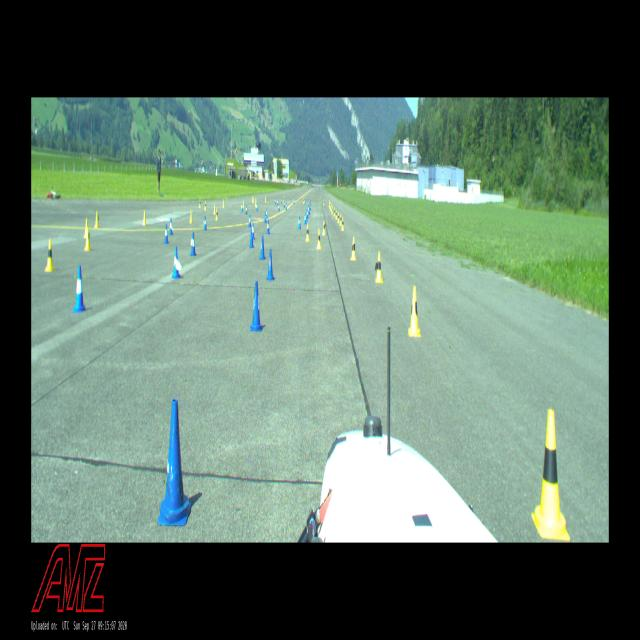blue_cone: (157, 398, 192, 528), (250, 281, 263, 331), (73, 265, 86, 312), (171, 248, 181, 279), (266, 248, 274, 280), (260, 234, 266, 261), (190, 232, 196, 256), (249, 228, 254, 249), (164, 222, 168, 244), (169, 217, 173, 235), (266, 219, 270, 235), (203, 216, 207, 231), (248, 214, 252, 228), (252, 222, 255, 239), (298, 214, 301, 230), (304, 212, 307, 225), (264, 212, 267, 224), (245, 204, 248, 215), (255, 202, 258, 212), (306, 209, 309, 218), (241, 203, 243, 213), (306, 211, 308, 221), (285, 203, 287, 211), (283, 200, 285, 208), (278, 204, 280, 211), (281, 197, 282, 204)
yellow_cone: (531, 409, 570, 541), (408, 286, 422, 337), (374, 251, 384, 284), (45, 240, 54, 272), (83, 218, 90, 252), (84, 226, 92, 251), (350, 236, 357, 261), (316, 228, 322, 249), (94, 209, 99, 229), (305, 223, 310, 242), (322, 220, 326, 236), (340, 217, 344, 231), (142, 212, 146, 226), (190, 209, 193, 224), (337, 211, 340, 224), (204, 199, 207, 211), (339, 214, 342, 226), (213, 203, 216, 215), (222, 198, 225, 208), (216, 208, 218, 222), (199, 198, 201, 208), (336, 210, 338, 220), (243, 200, 245, 208), (334, 208, 336, 216), (332, 206, 334, 214), (323, 199, 325, 206)
